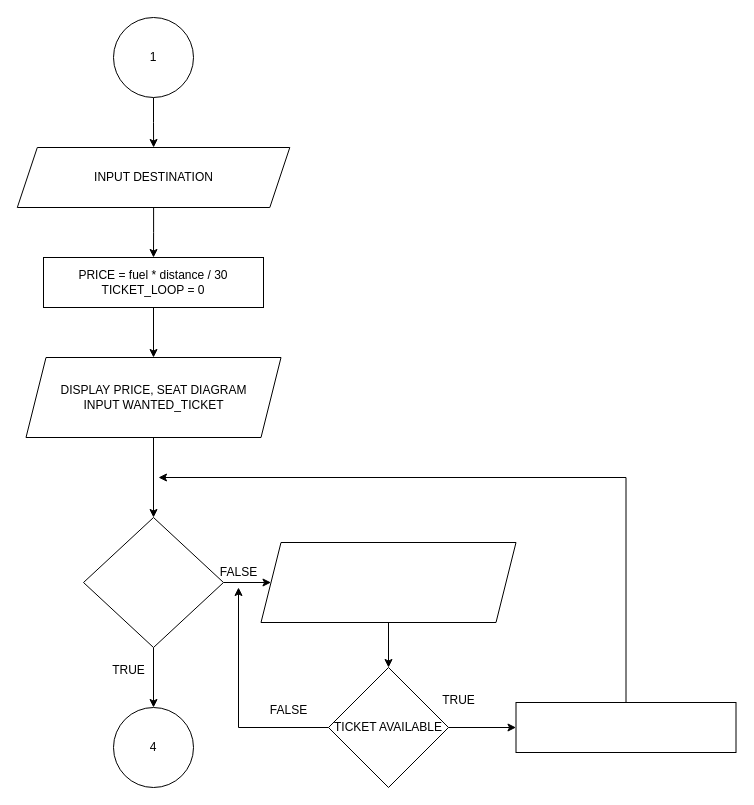
The diagram is 754 pixels wide and 805 high, and some of its shapes have lost their labels. Each missing label, with the centre of its shape:
"INPUT BUS_SEAT" goes at [388,582].
"TEMP_RESERVE[TICKET_LOOP] = BUS_SEAT TICKET_LOOP = TICKET_LOOP + 1" goes at [625,727].
"TICKET_LOOP > WANTED_TICKET" goes at [153,582].
